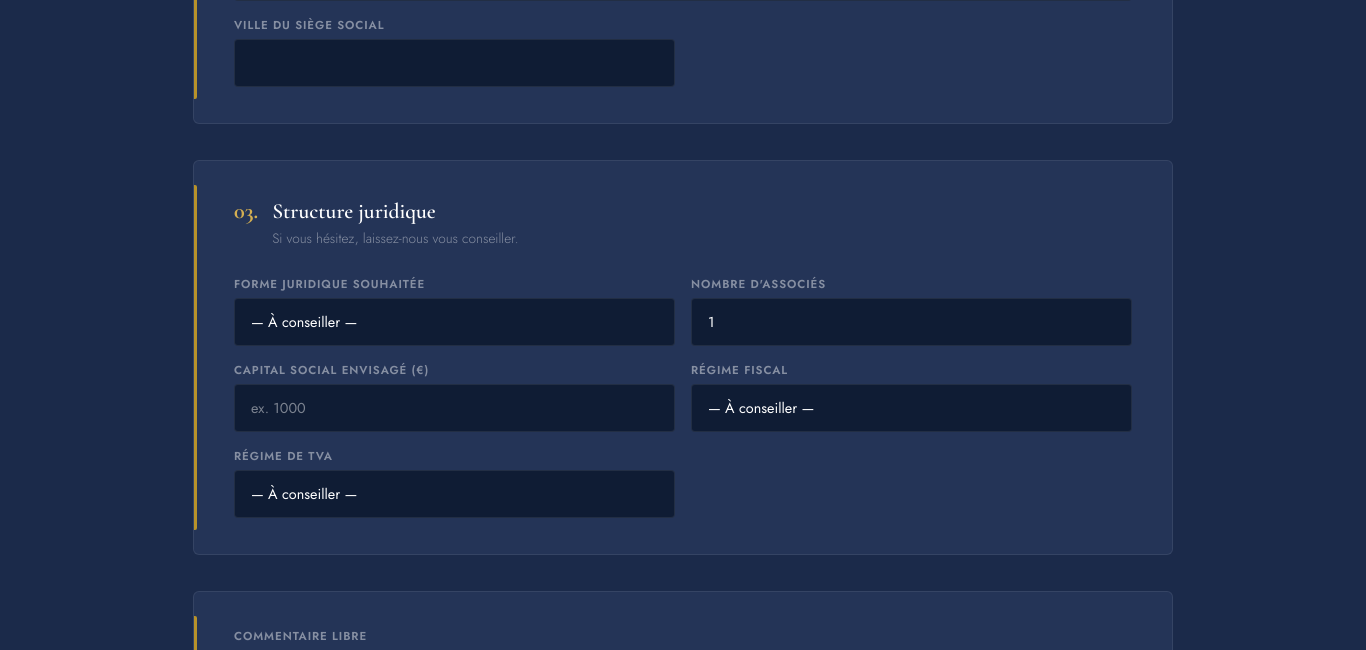
Test: CreationEntrepriseForm › préselectionne Micro-entreprise avec le régime fiscal Micro-fiscal
(page scrolled)
Select "Micro-entreprise" in the dropdown named "formeJuridique" below "Forme juridique souhaitée" at (454, 322), box x1=234 y1=298 x2=675 y2=346
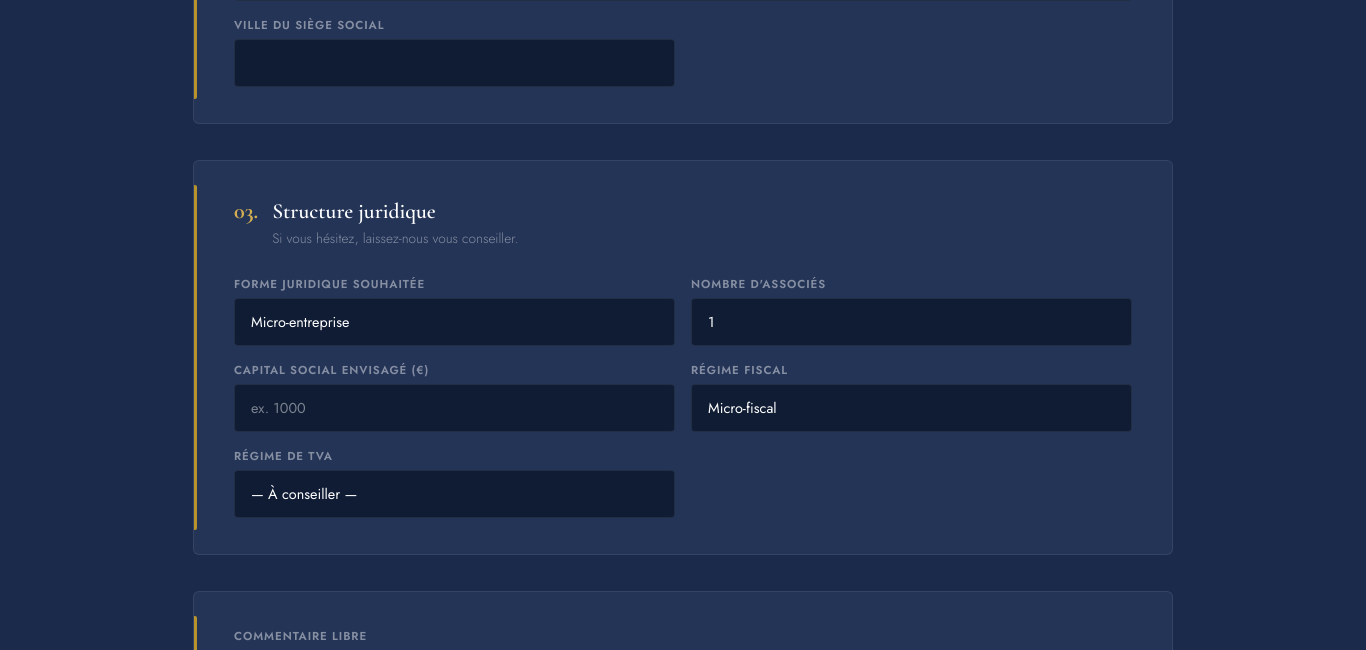
Check: the dropdown named "regimeFiscal" below "Régime fiscal" shows "Micro-fiscal", box x1=691 y1=384 x2=1132 y2=432
